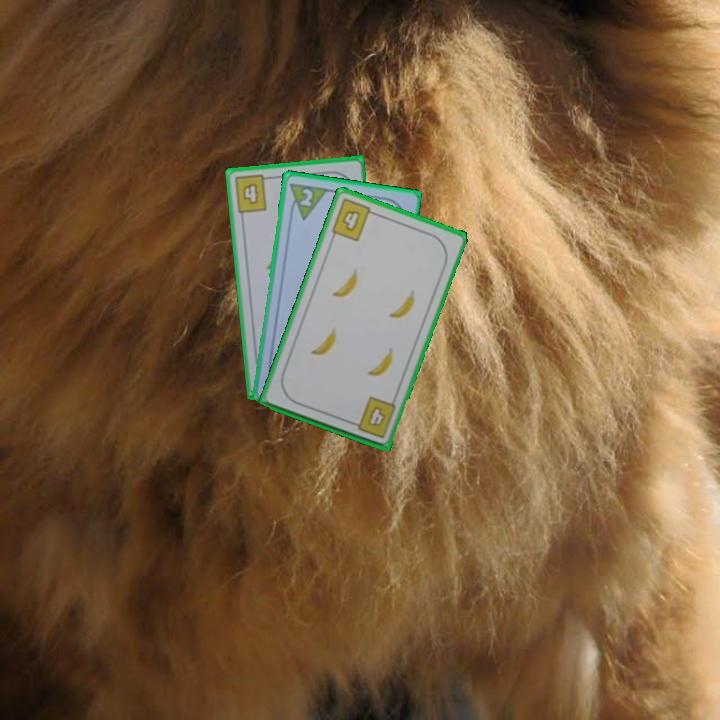2p: (296, 185, 315, 209)
4b: (327, 195, 380, 244), (347, 393, 399, 441), (230, 171, 274, 216)
